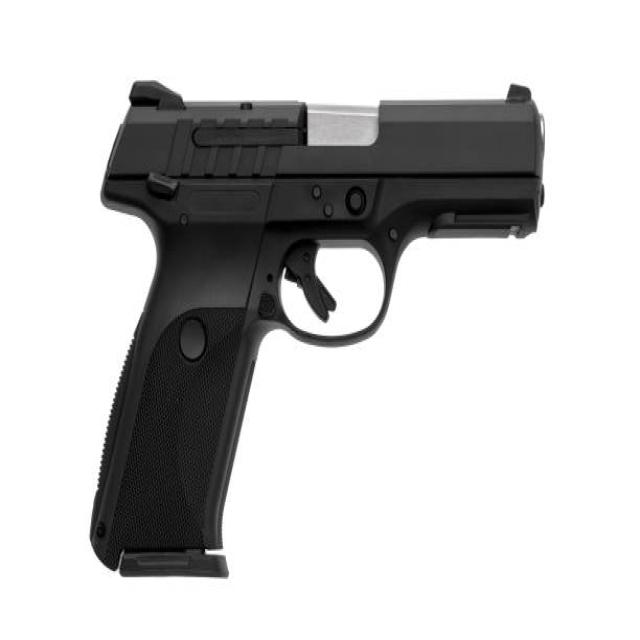pistol: (79, 72, 552, 581)
